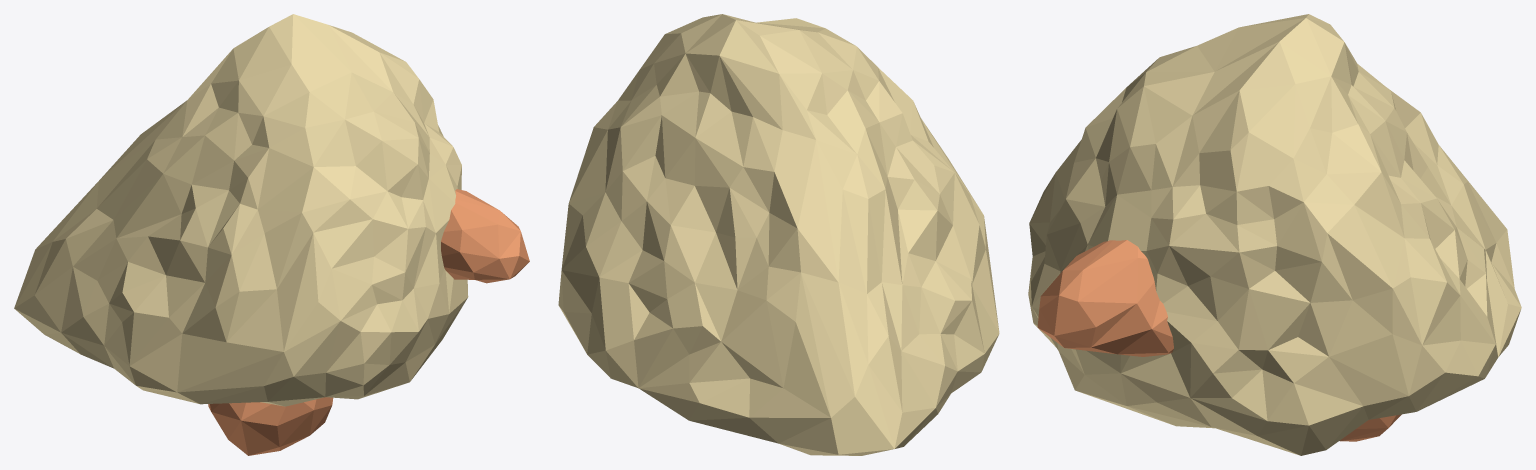
Rendered from StoneOre (55).fbx.
The picture shows the model from 3 angles, left to right: view 1: azimuth 30°, elevation 25°; view 2: azimuth 150°, elevation 25°; view 3: azimuth 270°, elevation 25°; orthographic projection. The views are drawn at different scales.
Visible parts, largest first — view 1: Asteroid342; view 2: Asteroid342; view 3: Asteroid342.
Boxes of the visible parts, x1,y1,x2,y2 form: Asteroid342: (14,14,529,455); Asteroid342: (558,14,999,455); Asteroid342: (1028,14,1521,455).
Size of the model in its own units: 545 by 544 by 547.
